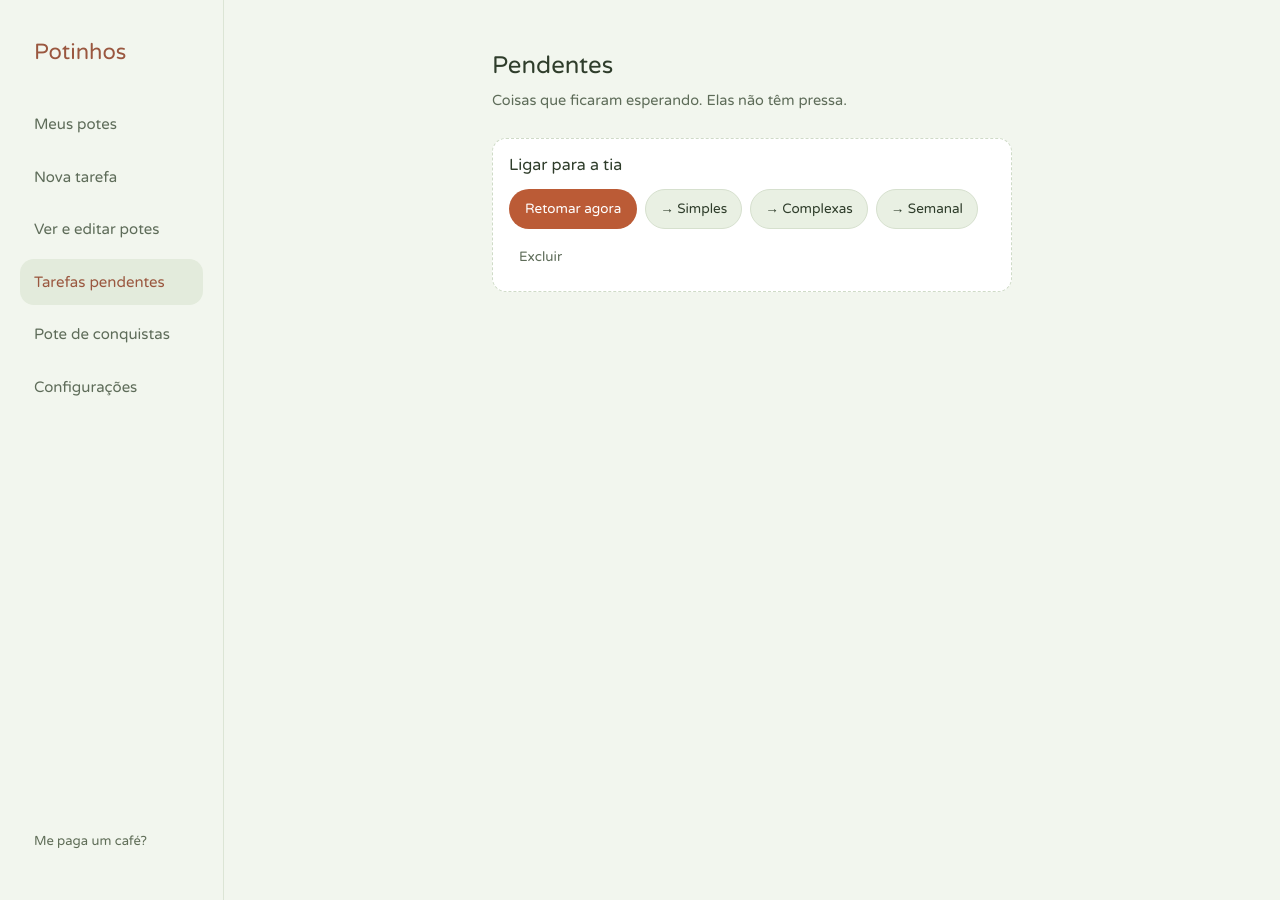
Scenario: Pending › deletes the slip with an undo that keeps it pending
The width and height of the screenshot is (1280, 900).
Expected: the heading "Pendentes" is shown, left=492, top=51, right=613, bottom=80
What coordinates should you click on to do the following:
click the button "Excluir"
I would click on:
 (541, 257)
Its box is left=509, top=237, right=572, bottom=277.
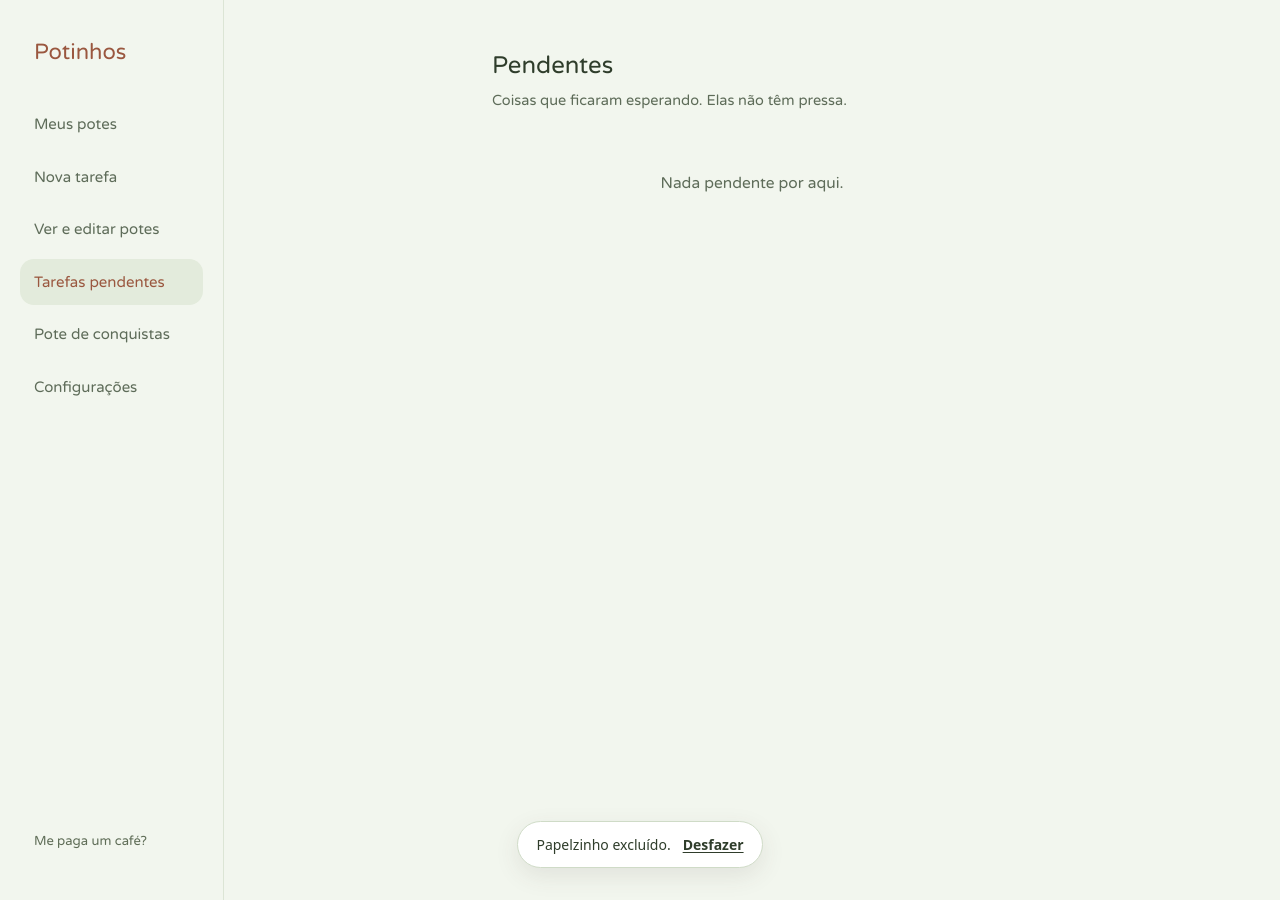
Expected: the text "Nada pendente por aqui." is shown, left=660, top=174, right=844, bottom=192
What coordinates should you click on to do the following:
click the button "Desfazer"
I would click on:
 (713, 844)
Its box is left=683, top=834, right=744, bottom=855.
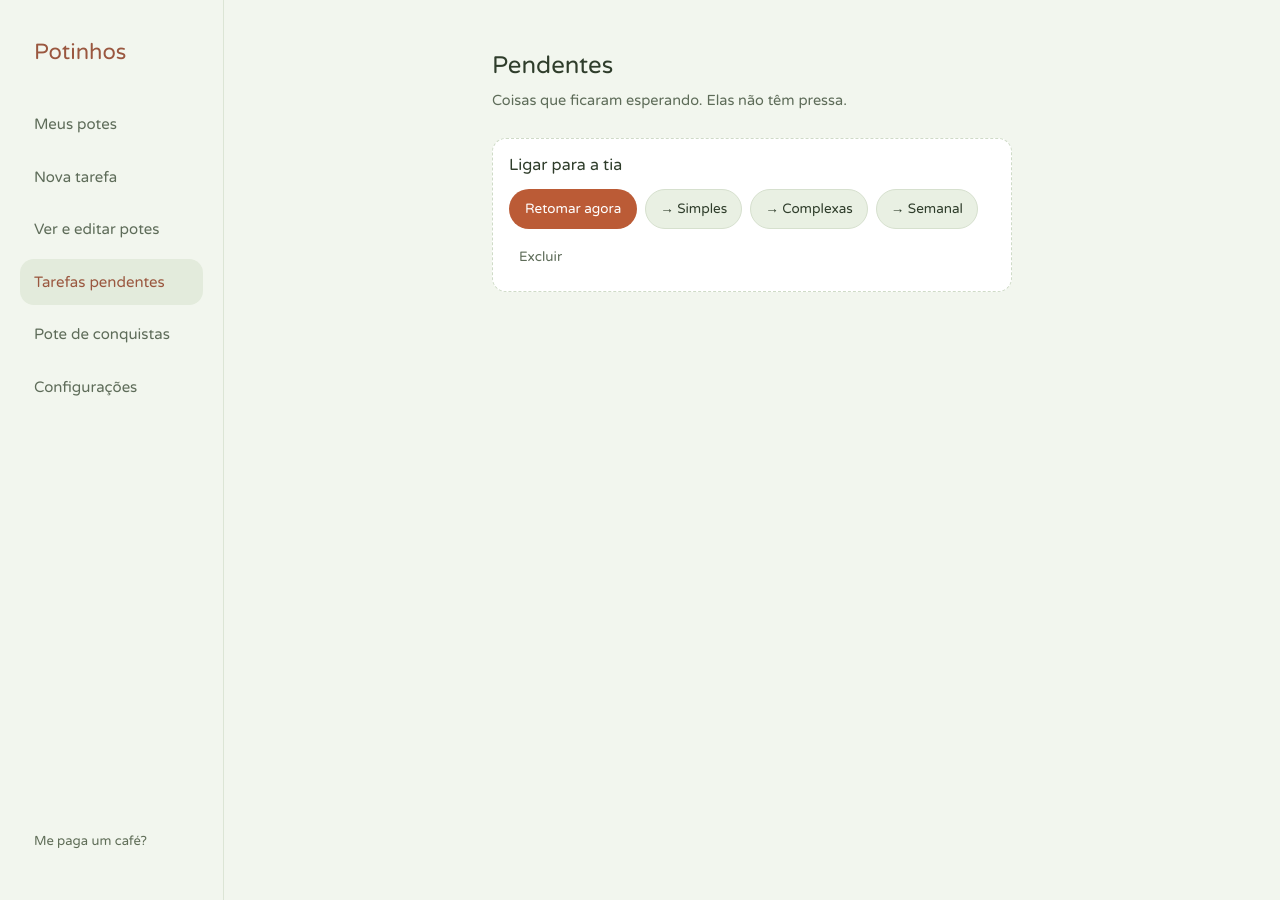
Expected: the text "Ligar para a tia" is shown, left=509, top=155, right=622, bottom=175
